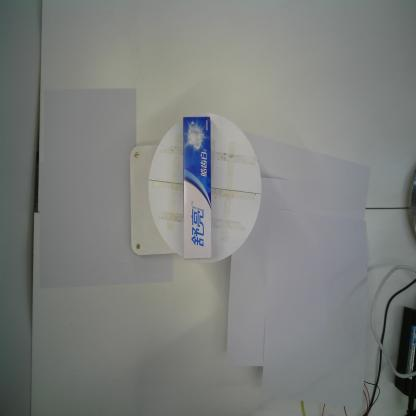Personal Hygiene: (182, 115, 213, 261)
